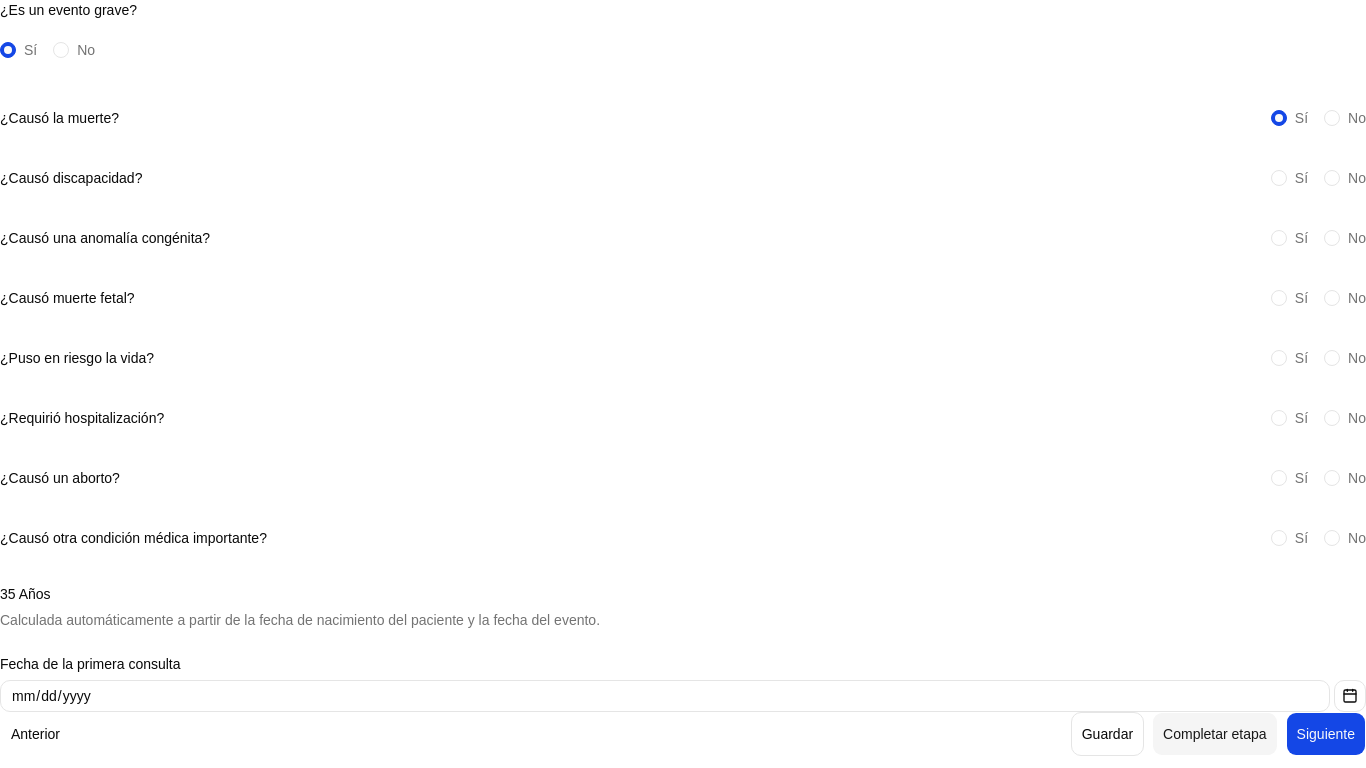
it: ClassificationStep — compuerta Sí→No con criterios marcados (SPEC FE11 §3.5, §6) › cancelar no toca los criterios; confirmar los limpia y oculta la sección
Expected: the 1st radio button named "Sí" is checked, [0,42,16,58]
Cancelar: el diálogo se cierra y no cambia nada.
Click the 2nd radio button named "No".
click(61, 50)  # box [53,42,69,58]
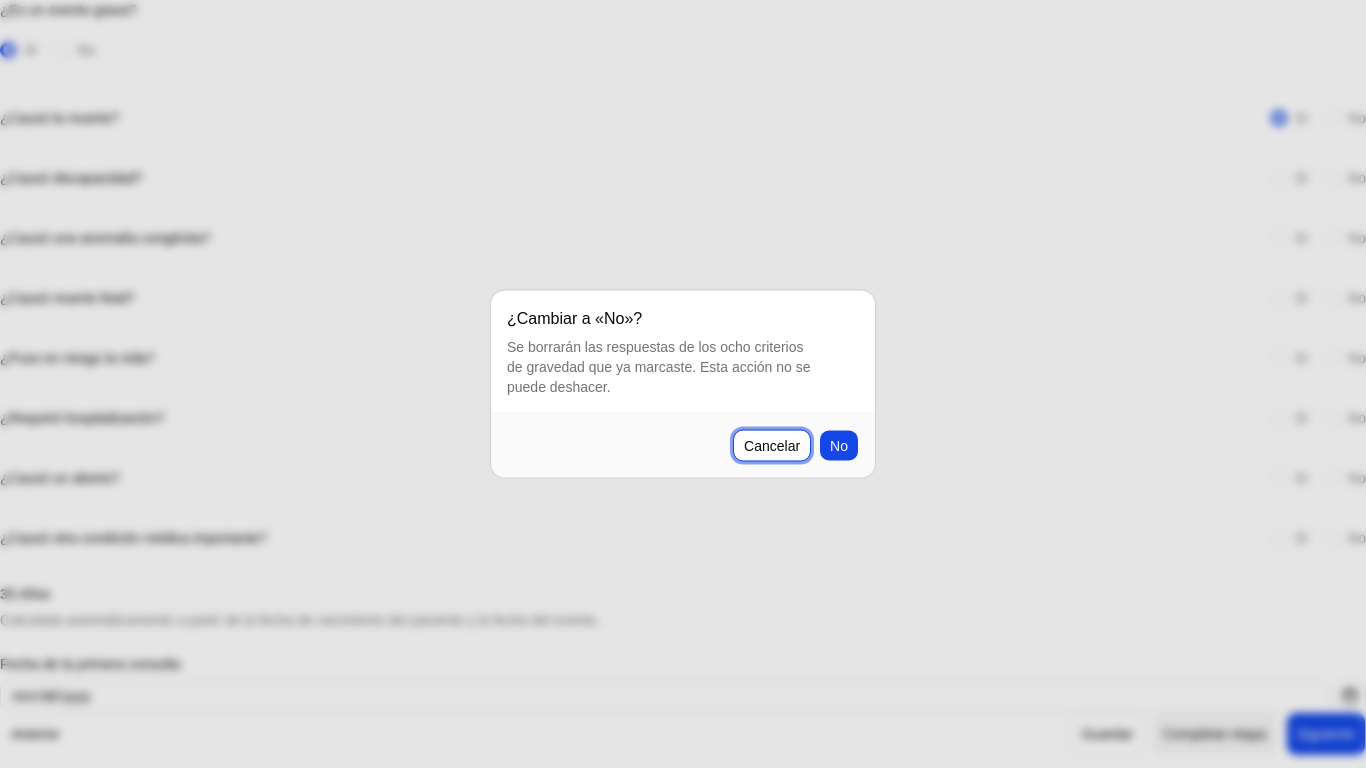
Expected: the heading "¿Cambiar a «No»?" is shown, [507,306,642,330]
Click the button "Cancelar".
click(772, 446)  # box [733,430,811,462]
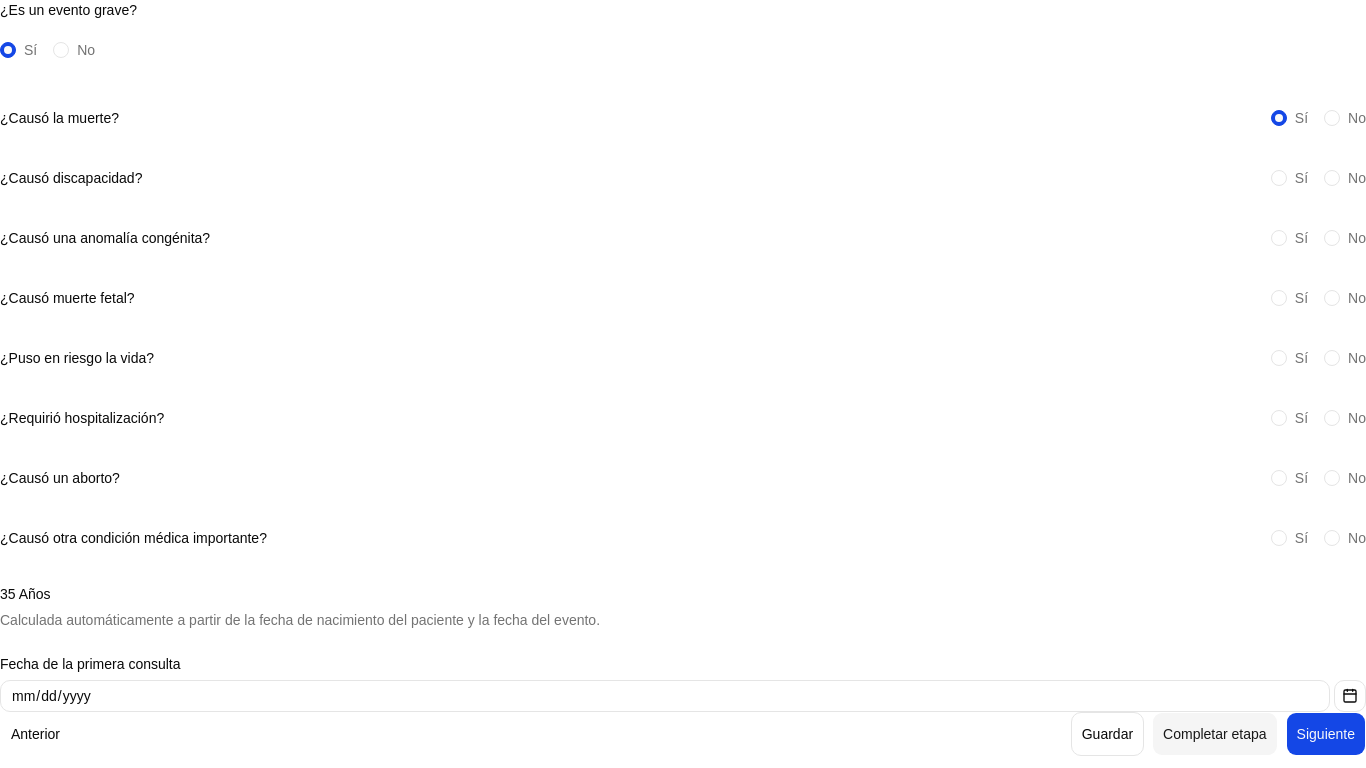
Expected: the 1st radio button named "Sí" is checked, [0,42,16,58]
Expected: the heading "¿Cambiar a «No»?" is gone
Confirmar: limpia los ocho criterios y oculta la sección.
Click the 2nd radio button named "No".
click(61, 50)  # box [53,42,69,58]
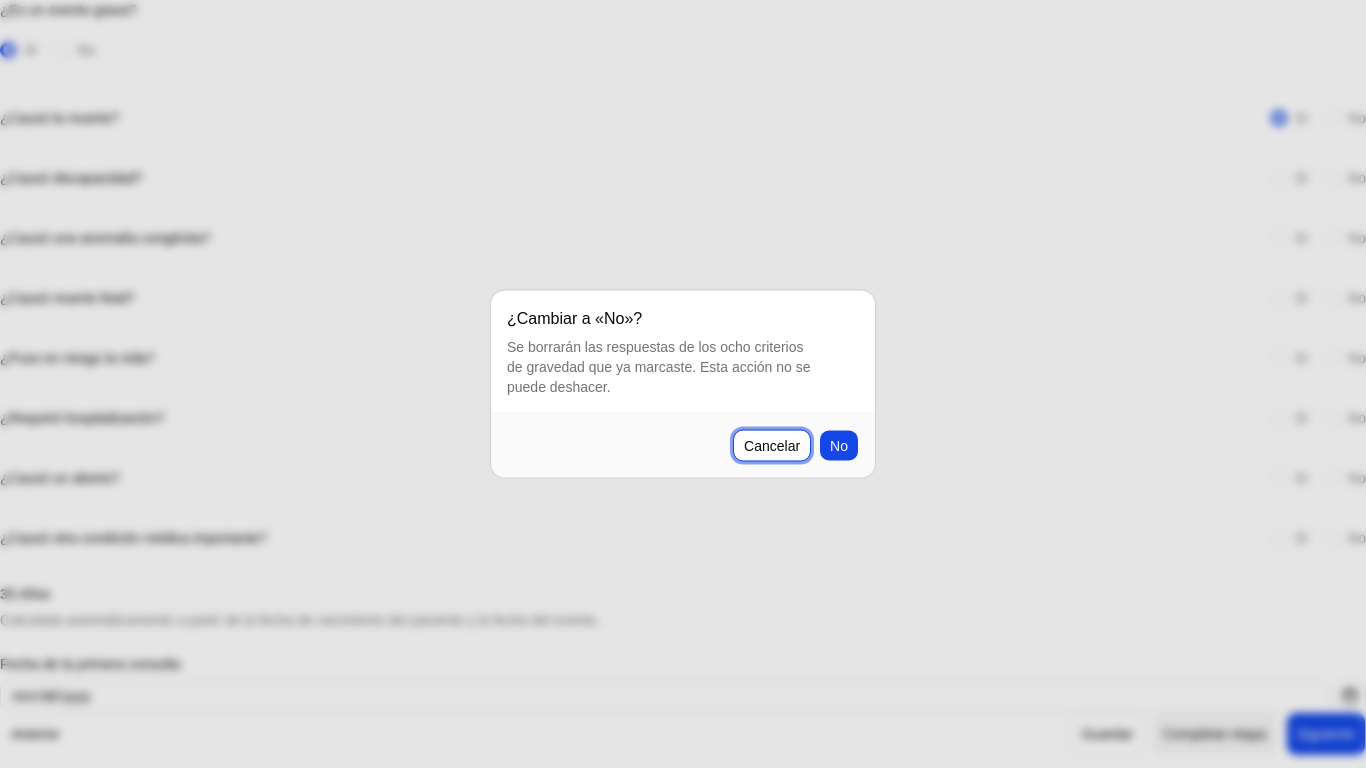
Expected: the heading "¿Cambiar a «No»?" is shown, [507,306,642,330]
Click the button "No".
click(839, 446)  # box [819,430,859,462]
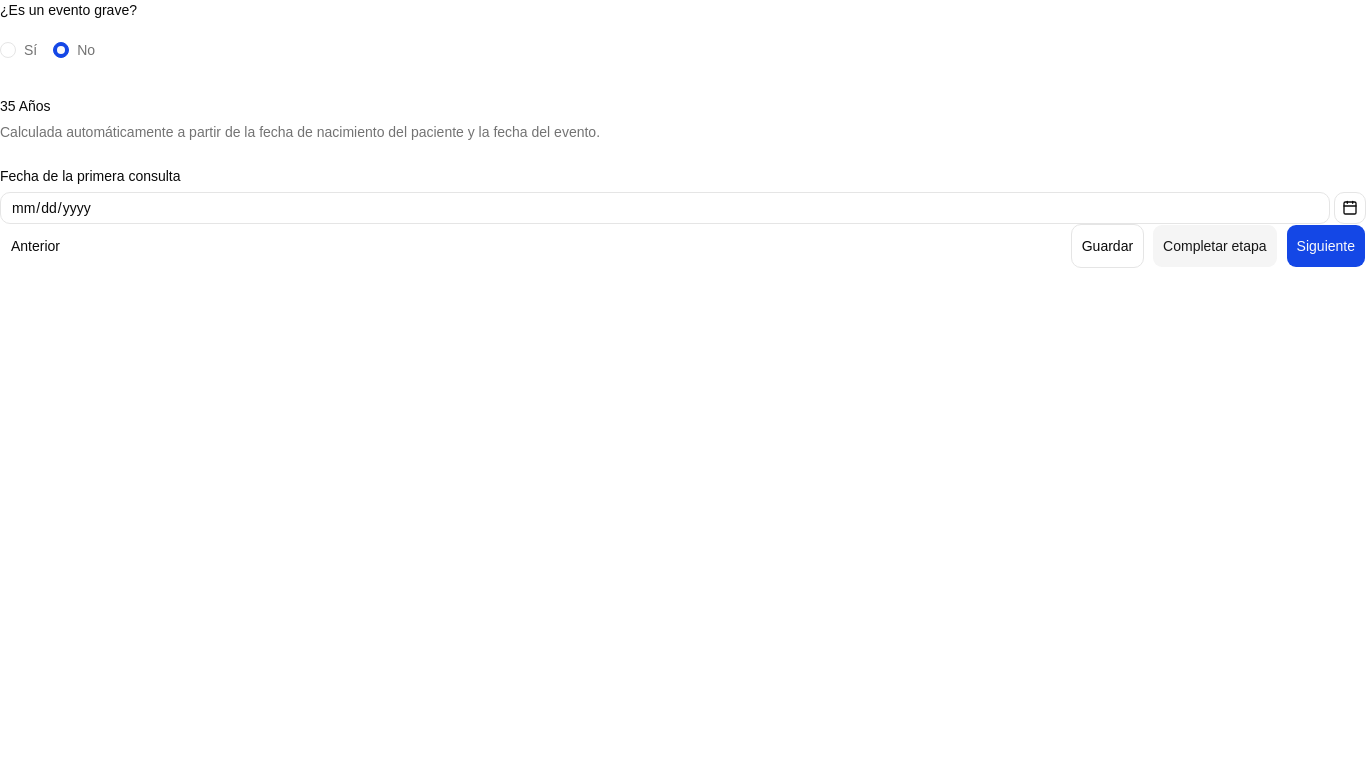
Expected: the radio button named "No" next to "No" is checked, [53,42,69,58]
Expected: the text "¿Causó la muerte?" is gone
